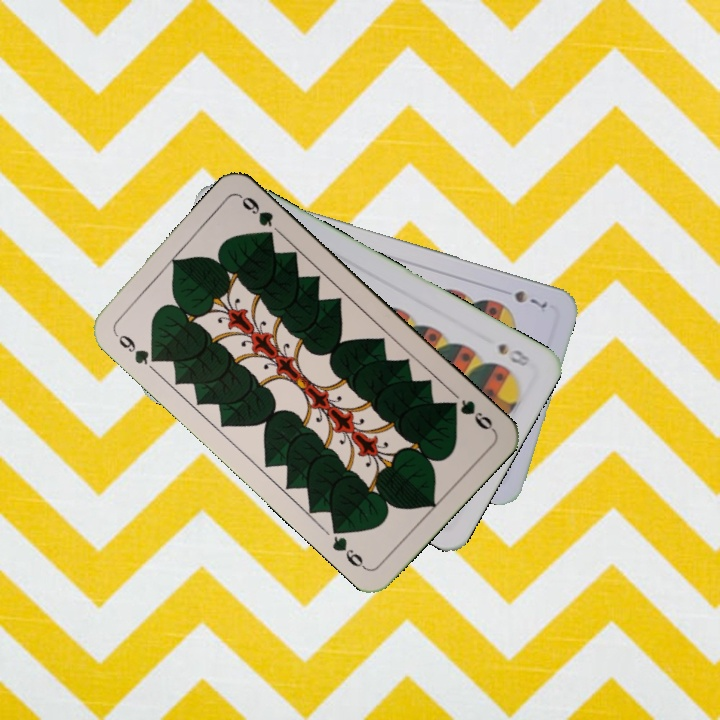G9: (443, 395, 498, 434), (110, 329, 163, 367)
S7: (510, 286, 550, 311)
S8: (494, 339, 533, 369)
